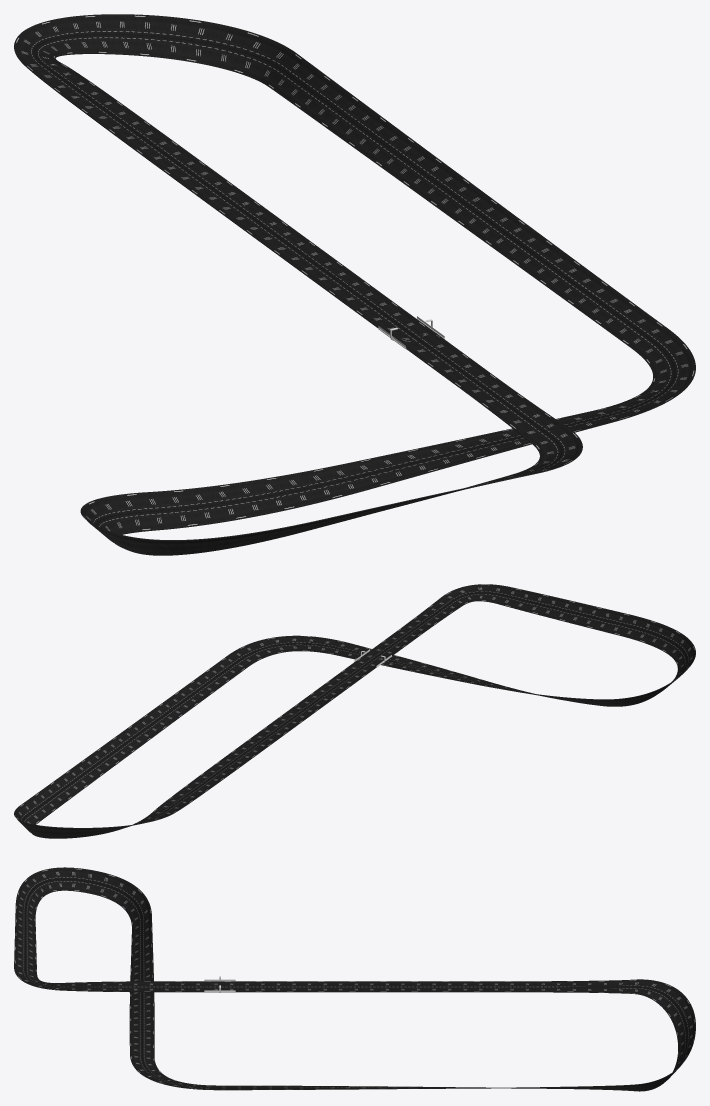
File: Track_02.fbx_Track_Collection.fbx
3 renders of one model, top to bottom at view 1: azimuth 30°, elevation 25°; view 2: azimuth 150°, elevation 25°; view 3: azimuth 270°, elevation 25°, orthographic. The views are drawn at different scales.
Parts seen in each view (by area): view 1: Track; view 2: Track; view 3: Track.
Boxes of the visible parts, <box> form: Track: <box>14,14,695,555</box>; Track: <box>14,584,695,838</box>; Track: <box>14,867,695,1091</box>.
Size of what is drawn, in the model's own units: 57654 by 7097 by 87601.
